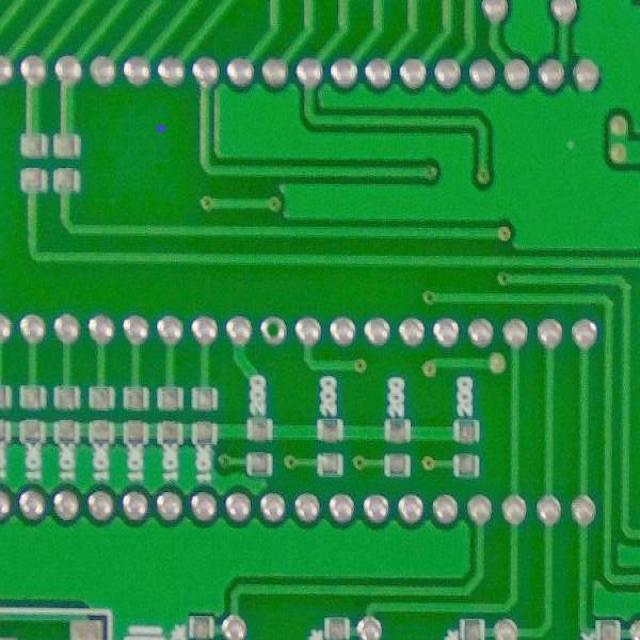missing hole: (258, 309, 291, 347)
